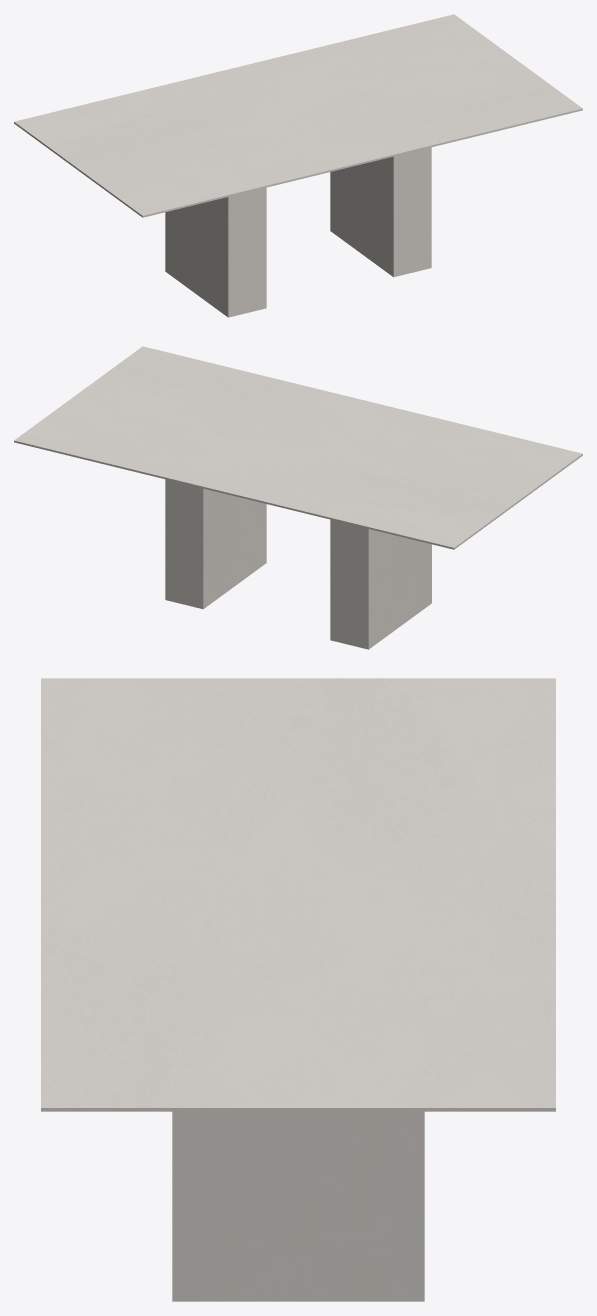
Rendered from pearlwhite_recta_facet_ridge.glb.
The picture shows the model from 3 angles, top to bottom: view 1: azimuth 30°, elevation 25°; view 2: azimuth 150°, elevation 25°; view 3: azimuth 270°, elevation 25°; orthographic projection. The views are drawn at different scales.
Visible parts, largest first — view 1: facet_recta, ridge; view 2: facet_recta, ridge; view 3: facet_recta, ridge.
Part boxes in pixels (x1,y1,x2,y2): facet_recta: [14, 14, 582, 217]; ridge: [165, 147, 431, 317]; facet_recta: [14, 346, 582, 549]; ridge: [165, 479, 431, 649]; facet_recta: [41, 678, 555, 1111]; ridge: [172, 1111, 424, 1301].
Size of the model in its own units: 7.5 by 2.52 by 3.8.
1 material, 1 textured.
